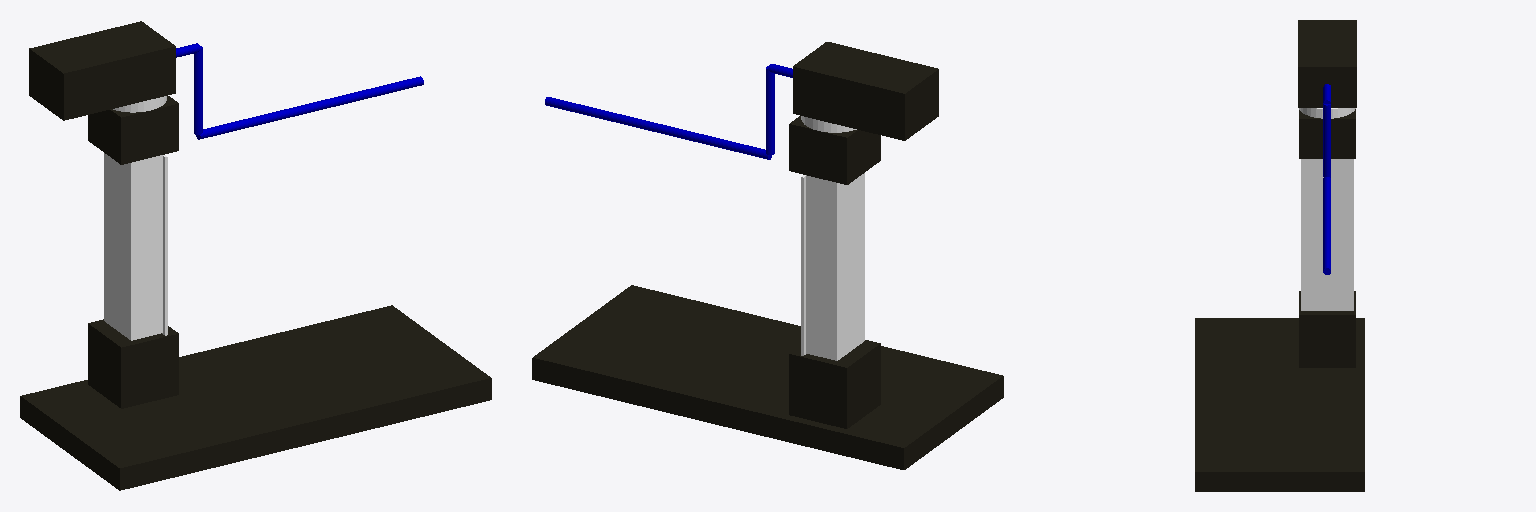
robot.urdf — robot:
<?xml version="1.0" ?>
<robot name="robot">
  <material name="blue">
    <color rgba="0 0 0.8 1"/>
  </material>
  <material name="red">
    <color rgba="0.7 0 0 1"/>
  </material>
  <material name="white">
    <color rgba="1 1 1 1"/>
  </material>
  <material name="brown">
    <color rgba="0.163 0.155 0.120 1"/>
  </material>
  <material name="oak">
    <color rgba="0.84375 0.70703125 0.53515625 1"/>
  </material>

  <ros2_control name="GazeboSystem" type="system">
    <hardware>
      <plugin>gazebo_ros2_control/GazeboSystem</plugin>
    </hardware>
    <joint name="upper_cylinder_upper_motor_joint">
      <command_interface name="effort"/>
      <state_interface name="position">
        <param name="initial_value">0</param>
      </state_interface>
      <state_interface name="velocity"/>
      <state_interface name="effort"/>
    </joint>
    <joint name="column_outside_column_inside_joint">
      <command_interface name="effort"/>
      <state_interface name="position">
        <param name="initial_value">0</param>
      </state_interface>
      <state_interface name="velocity"/>
      <state_interface name="effort"/>
    </joint>
    <joint name="upper_motor_box_arm_joint">
      <command_interface name="effort"/>
      <state_interface name="position">
        <param name="initial_value">0</param>
      </state_interface>
      <state_interface name="velocity"/>
      <state_interface name="effort"/>
    </joint>
  </ros2_control>

  <gazebo>
    <plugin filename="libgazebo_ros2_control.so" name="gazebo_ros2_control">
      <parameters>/home/uwxvp/ws_Aufstehhilfe/santiago/install/gazebo_simulation/share/gazebo_simulation/config/controller_manager.yaml</parameters>
    </plugin>
    <plugin filename="libgazebo_ros_force_system.so" name="gazebo_ros_force_system">
    </plugin>
  </gazebo>

  <link name="robot_base"/>

  <joint name="map_frame_joint" type="fixed">
    <origin xyz="0.35575 -0.180 0"/>
    <parent link="robot_base"/>
    <child link="frame_link"/>
  </joint>

  <link name="frame_link">
    <visual>
      <origin xyz="0 0 0.040"/>
      <geometry>
        <box size="1.395 0.645 0.080"/>
      </geometry>
      <material name="brown"/>
    </visual>
    <collision>
      <origin xyz="0 0 0.040"/>
      <geometry>
        <box size="1.395 0.645 0.080"/>
      </geometry>
    </collision>
    <inertial>
      <mass value="20000.0"/>
      <origin xyz="0 0 0.040"/>
      <inertia ixx="704.0416666666667" ixy="0" ixz="0" iyy="3254.041666666667" iyz="0" izz="3936.75"/>
    </inertial>
  </link>

  <joint name="frame_lower_motor_box_joint" type="fixed">
    <origin xyz="-0.35575 0.180 0.080"/>
    <parent link="frame_link"/>
    <child link="lower_motor_box_link"/>
  </joint>

  <link name="lower_motor_box_link">
    <visual>
      <origin xyz="0 0 0.110"/>
      <geometry>
        <box size="0.2165 0.218 0.220"/>
      </geometry>
      <material name="brown"/>
    </visual>
    <collision>
      <origin xyz="0 0 0.110"/>
      <geometry>
        <box size="0.2165 0.218 0.220"/>
      </geometry>
    </collision>
    <inertial>
      <mass value="28.0"/>
      <origin xyz="0 0 0.110"/>
      <inertia ixx="0.22382266666666667" ixy="0" ixz="0" iyy="0.22230191666666668" iyz="0" izz="0.22025791666666666"/>
    </inertial>
  </link>

  <joint name="lower_motor_box_column_outside_joint" type="fixed">
    <origin xyz="0 0 0.220"/>
    <parent link="lower_motor_box_link"/>
    <child link="column_outside_link"/>
  </joint>

  <link name="column_outside_link">
    <visual>
      <origin xyz="0.065 0 0.320"/>
      <geometry>
        <box size="0.010 0.202 0.640"/>
      </geometry>
      <material name="white"/>
    </visual>
    <collision>
      <origin xyz="0.065 0 0.320"/>
      <geometry>
        <box size="0.010 0.202 0.640"/>
      </geometry>
    </collision>
    <inertial>
      <mass value="0.01"/>
      <origin xyz="0.065 0 0.320"/>
      <inertia ixx="0.00037533666666666674" ixy="0" ixz="0" iyy="0.0003414166666666667" iyz="0" izz="3.408666666666668e-05"/>
    </inertial>
  </link>

  <joint name="column_outside_column_inside_joint" type="prismatic">
    <origin xyz="0 0 0.005"/>
    <parent link="column_outside_link"/>
    <child link="column_inside_link"/>
    <axis xyz="0 0 1"/>
    <dynamics damping="0.5" friction="1.1"/>
    <limit effort="5000" lower="0" upper="50.0" velocity="100"/>
  </joint>

  <link name="column_inside_link">
    <visual>
      <origin xyz="0 0 0.320"/>
      <geometry>
        <box size="0.120 0.177 0.640"/>
      </geometry>
      <material name="white"/>
    </visual>
    <collision>
      <origin xyz="0 0 0.320"/>
      <geometry>
        <box size="0.120 0.177 0.640"/>
      </geometry>
    </collision>
    <inertial>
      <mass value="9.0"/>
      <origin xyz="0 0 0.320"/>
      <inertia ixx="0.33069675" ixy="0" ixz="0" iyy="0.31800000000000006" iyz="0" izz="0.034296749999999994"/>
    </inertial>
  </link>

  <joint name="column_inside_joint" type="fixed">
    <origin xyz="0 0 0.650"/>
    <parent link="column_inside_link"/>
    <child link="middle_motor_box_link"/>
  </joint>

  <link name="middle_motor_box_link">
    <visual>
      <origin xyz="0 0 0.085"/>
      <geometry>
        <box size="0.218 0.218 0.170"/>
      </geometry>
      <material name="brown"/>
    </visual>
    <collision>
      <origin xyz="0 0 0.085"/>
      <geometry>
        <box size="0.218 0.218 0.170"/>
      </geometry>
    </collision>
    <inertial>
      <mass value="19.0"/>
      <origin xyz="0 0 0.085"/>
      <inertia ixx="0.12100466666666668" ixy="0" ixz="0" iyy="0.12100466666666668" iyz="0" izz="0.15049266666666664"/>
    </inertial>
  </link>

  <joint name="middle_box_upper_cylinder_joint" type="fixed">
    <origin xyz="0 0 0.170"/>
    <parent link="middle_motor_box_link"/>
    <child link="upper_cylinder_link"/>
  </joint>

  <link name="upper_cylinder_link">
    <visual>
      <origin xyz="0 0 0.020"/>
      <geometry>
        <cylinder length="0.040" radius="0.110"/>
      </geometry>
      <material name="white"/>
    </visual>
    <collision>
      <origin xyz="0 0 0.020"/>
      <geometry>
        <cylinder length="0.040" radius="0.110"/>
      </geometry>
    </collision>
    <inertial>
      <mass value="1.0"/>
      <origin xyz="0 0 0.020"/>
      <inertia ixx="0.003158333333333333" ixy="0" ixz="0" iyy="0.003158333333333333" iyz="0" izz="0.00605"/>
    </inertial>
  </link>

  <joint name="upper_cylinder_upper_motor_joint" type="continuous">
    <origin xyz="0 0 0.040"/>
    <parent link="upper_cylinder_link"/>
    <child link="upper_motor_box_link"/>
    <dynamics damping="0.5" friction="0.1"/>
    <axis xyz="0 0 1"/>
  </joint>

  <link name="upper_motor_box_link">
    <visual>
      <origin xyz="-0.11575 0 0.08475"/>
      <geometry>
        <box size="0.4215 0.223 0.1695"/>
      </geometry>
      <material name="brown"/>
    </visual>
    <collision>
      <origin xyz="-0.11575 0 0.08475"/>
      <geometry>
        <box size="0.4215 0.223 0.1695"/>
      </geometry>
    </collision>
    <inertial>
      <mass value="22.0"/>
      <origin xyz="-0.11575 0 0.08475"/>
      <inertia ixx="0.14384195833333335" ixy="0" ixz="0" iyy="0.37838625" iyz="0" izz="0.4168839583333333"/>
    </inertial>
  </link>

  <joint name="upper_motor_box_arm_joint" type="continuous">
    <parent link="upper_motor_box_link"/>
    <child link="arm_first_link"/>
    <origin rpy="0 -1.57079 3.1415926" xyz="0.095 0 0.08475"/>
    <dynamics damping="0.5" friction="0.1"/>
    <axis xyz="0 0 1"/>
  </joint>

  <link name="arm_first_link">
    <visual>
      <origin rpy="0 0 0" xyz="0 0 0.074"/>
      <geometry>
        <cylinder length="0.148" radius="0.015"/>
      </geometry>
      <material name="blue"/>
    </visual>
    <collision>
      <origin rpy="0 0 0" xyz="0 0 0.074"/>
      <geometry>
        <cylinder length="0.148" radius="0.015"/>
      </geometry>
    </collision>
    <inertial>
      <mass value="1.5"/>
      <origin rpy="0 0 0" xyz="0 0 0.074"/>
      <inertia ixx="0.0028223749999999994" ixy="0" ixz="0" iyy="0.0028223749999999994" iyz="0" izz="0.00016875"/>
    </inertial>
  </link>

  <joint name="arm_first_joint" type="fixed">
    <parent link="arm_first_link"/>
    <child link="arm_second_link"/>
    <origin rpy="0 -1.5708 0" xyz="0 0 0.148"/>
  </joint>

  <link name="arm_second_link">
    <visual>
      <origin rpy="0 0 0" xyz="0 0 0.153"/>
      <geometry>
        <cylinder length="0.306" radius="0.015"/>
      </geometry>
      <material name="blue"/>
    </visual>
    <collision>
      <origin rpy="0 0 0" xyz="0 0 0.153"/>
      <geometry>
        <cylinder length="0.306" radius="0.015"/>
      </geometry>
    </collision>
    <inertial>
      <mass value="0.5"/>
      <origin rpy="0 0 0" xyz="0 0 0.153"/>
      <inertia ixx="0.003929624999999999" ixy="0" ixz="0" iyy="0.003929624999999999" iyz="0" izz="5.625e-05"/>
    </inertial>
  </link>

  <joint name="arm_second_joint" type="fixed">
    <parent link="arm_second_link"/>
    <child link="arm_third_link"/>
    <origin rpy="0 1.5708 0" xyz="0 0 0.314"/>
  </joint>

  <link name="arm_third_link">
    <visual>
      <origin xyz="0 0 0.419"/>
      <geometry>
        <cylinder length="0.838" radius="0.015"/>
      </geometry>
      <material name="blue"/>
    </visual>
    <collision>
      <origin xyz="0 0 0.419"/>
      <geometry>
        <cylinder length="0.838" radius="0.015"/>
      </geometry>
    </collision>
    <inertial>
      <mass value="2.5"/>
      <origin xyz="0 0 0.419"/>
      <inertia ixx="0.14644145833333333" ixy="0" ixz="0" iyy="0.14644145833333333" iyz="0" izz="0.00028125"/>
    </inertial>
  </link>

  <joint name="end_effector_joint" type="fixed">
    <parent link="arm_third_link"/>
    <child link="end_effector"/>
    <origin rpy="0 -1.5708 0" xyz="0 0 0.838"/>
  </joint>

  <link name="end_effector"/>

  <gazebo reference="frame_link">
    <material>Gazebo/Grey</material>
  </gazebo>
  <gazebo reference="lower_motor_box_link">
    <material>Gazebo/Grey</material>
  </gazebo>
  <gazebo reference="middle_motor_box_link">
    <material>Gazebo/Grey</material>
  </gazebo>
  <gazebo reference="upper_motor_box_link">
    <material>Gazebo/Grey</material>
  </gazebo>
  <gazebo reference="column_outside_link">
    <material>Gazebo/White</material>
  </gazebo>
  <gazebo reference="column_inside_link">
    <material>Gazebo/White</material>
  </gazebo>
  <gazebo reference="upper_cylinder_link">
    <material>Gazebo/White</material>
  </gazebo>
  <gazebo reference="arm_first_link">
    <material>Gazebo/Blue</material>
  </gazebo>
  <gazebo reference="arm_second_link">
    <material>Gazebo/Blue</material>
  </gazebo>
  <gazebo reference="arm_third_link">
    <material>Gazebo/Blue</material>
  </gazebo>
</robot>

--- What the picture shows (computed from the rendered views, not written in the file) ---
Views: 3 orthographic renders of the robot side by side, from view 1: azimuth 30°, elevation 25°; view 2: azimuth 150°, elevation 25°; view 3: azimuth 270°, elevation 25°.
Robot: robot — 12 links, 11 joints (2 continuous, 1 prismatic, 8 fixed); root link robot_base; default pose: every joint at zero.
Visible links, largest first — view 1: frame_link, upper_motor_box_link, column_inside_link, lower_motor_box_link, middle_motor_box_link, arm_third_link, column_outside_link, arm_second_link; view 2: frame_link, upper_motor_box_link, column_inside_link, lower_motor_box_link, middle_motor_box_link, arm_third_link, column_outside_link, arm_second_link; view 3: frame_link, column_outside_link, upper_motor_box_link, lower_motor_box_link, middle_motor_box_link, arm_third_link, arm_second_link.
Boxes of the visible links, left/top/right/bottom form: frame_link: left=20, top=305, right=491, bottom=490; upper_motor_box_link: left=29, top=21, right=175, bottom=120; column_inside_link: left=104, top=153, right=162, bottom=340; lower_motor_box_link: left=88, top=319, right=178, bottom=408; middle_motor_box_link: left=88, top=96, right=178, bottom=164; arm_third_link: left=196, top=76, right=423, bottom=139; column_outside_link: left=162, top=155, right=167, bottom=335; arm_second_link: left=194, top=46, right=202, bottom=134; frame_link: left=532, top=285, right=1003, bottom=469; upper_motor_box_link: left=793, top=42, right=938, bottom=140; column_inside_link: left=806, top=173, right=864, bottom=360; lower_motor_box_link: left=789, top=340, right=880, bottom=428; middle_motor_box_link: left=789, top=116, right=880, bottom=184; arm_third_link: left=545, top=97, right=771, bottom=159; column_outside_link: left=801, top=175, right=805, bottom=355; arm_second_link: left=766, top=66, right=774, bottom=154; frame_link: left=1195, top=318, right=1364, bottom=491; column_outside_link: left=1301, top=159, right=1353, bottom=310; upper_motor_box_link: left=1298, top=20, right=1356, bottom=107; lower_motor_box_link: left=1299, top=291, right=1355, bottom=367; middle_motor_box_link: left=1299, top=109, right=1355, bottom=158; arm_third_link: left=1323, top=177, right=1330, bottom=274; arm_second_link: left=1323, top=104, right=1330, bottom=177.
Bounding box of the posed robot: 1.42 × 0.645 × 1.33 m (x, y, z).
Geometry: primitives only (box / cylinder / sphere), no mesh files.
